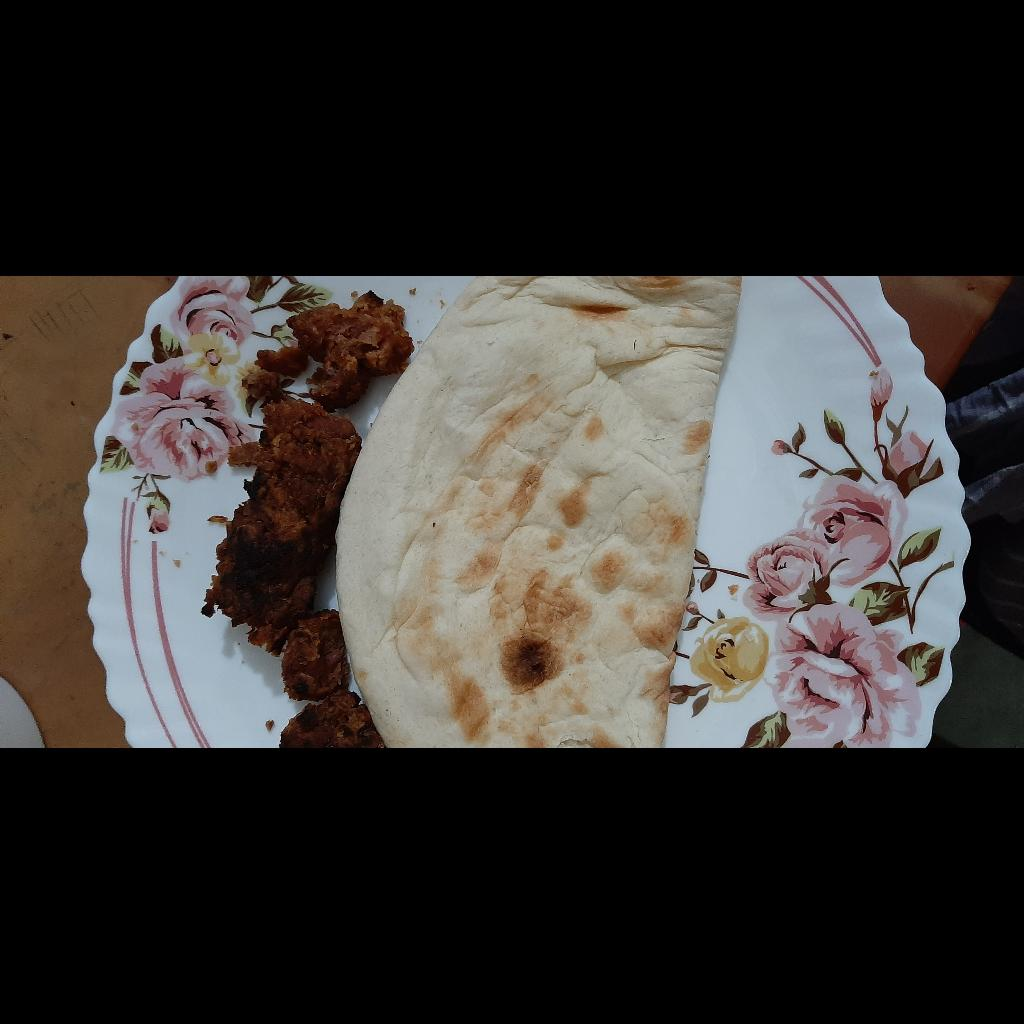beef: (0, 472, 456, 686)
ruti: (0, 609, 472, 1021)
